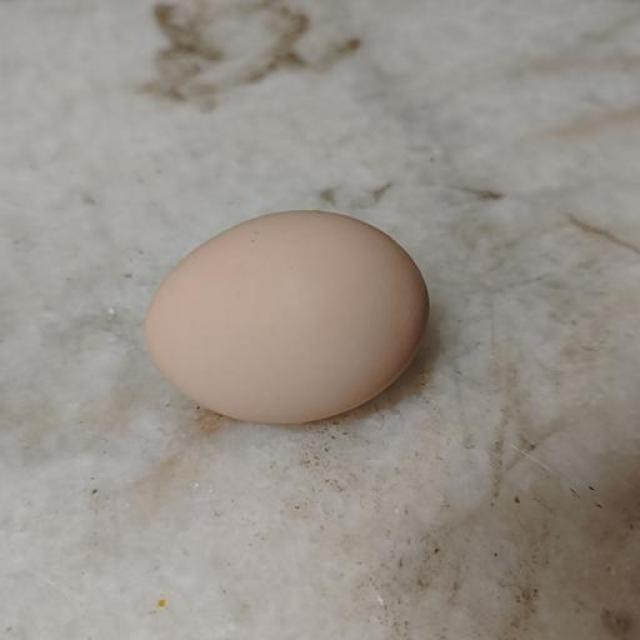organic: (101, 153, 511, 505)
